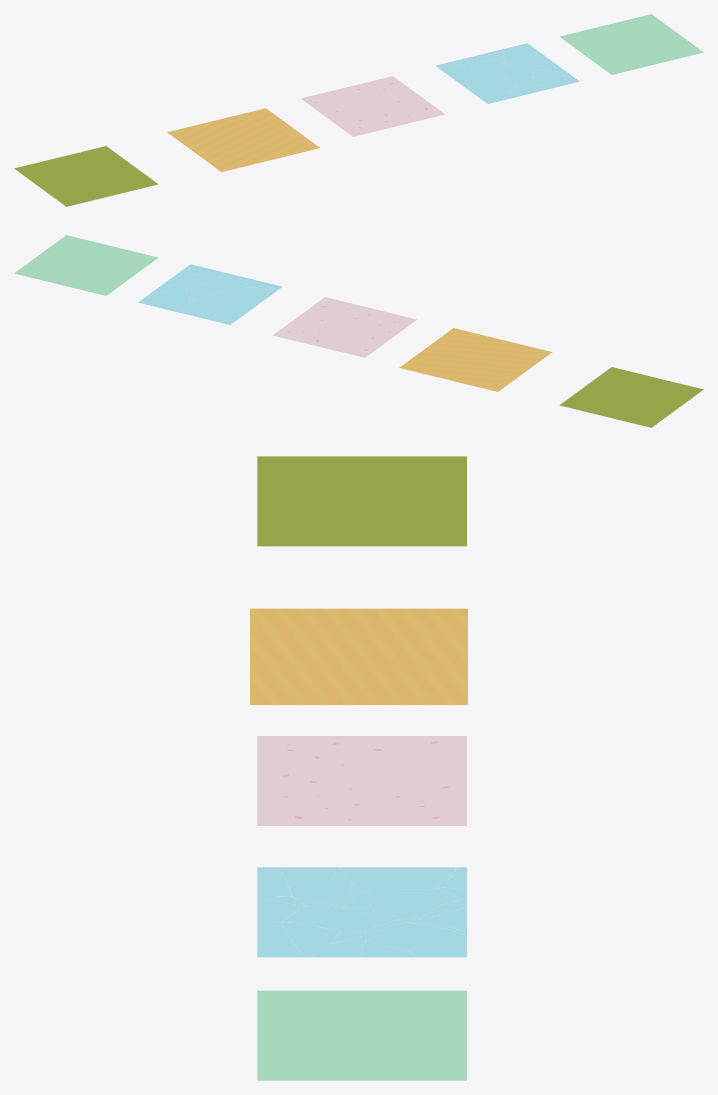
3 views of the same model, one above another, from view 1: azimuth 30°, elevation 25°; view 2: azimuth 150°, elevation 25°; view 3: azimuth 270°, elevation 25° (orthographic). The views are drawn at different scales.
Visible parts, largest first — view 1: plane_map_1, plane_map_2, plane_map_5, plane_map_4, plane_map_3; view 2: plane_map_1, plane_map_2, plane_map_5, plane_map_4, plane_map_3; view 3: plane_map_1, plane_map_2, plane_map_4, plane_map_5, plane_map_3.
Boxes of the visible parts, x1=… form: plane_map_1: x1=167, y1=108, x2=319, y2=171; plane_map_2: x1=14, y1=146, x2=158, y2=206; plane_map_5: x1=559, y1=14, x2=703, y2=74; plane_map_4: x1=435, y1=43, x2=579, y2=103; plane_map_3: x1=301, y1=76, x2=444, y2=136; plane_map_1: x1=399, y1=328, x2=552, y2=391; plane_map_2: x1=559, y1=367, x2=703, y2=427; plane_map_5: x1=14, y1=235, x2=158, y2=295; plane_map_4: x1=138, y1=264, x2=282, y2=324; plane_map_3: x1=273, y1=297, x2=416, y2=357; plane_map_1: x1=250, y1=608, x2=467, y2=704; plane_map_2: x1=257, y1=456, x2=466, y2=546; plane_map_4: x1=257, y1=867, x2=466, y2=957; plane_map_5: x1=257, y1=990, x2=466, y2=1080; plane_map_3: x1=257, y1=736, x2=466, y2=825.
Size of the model in its own units: 3872 by 7.92 by 573.
